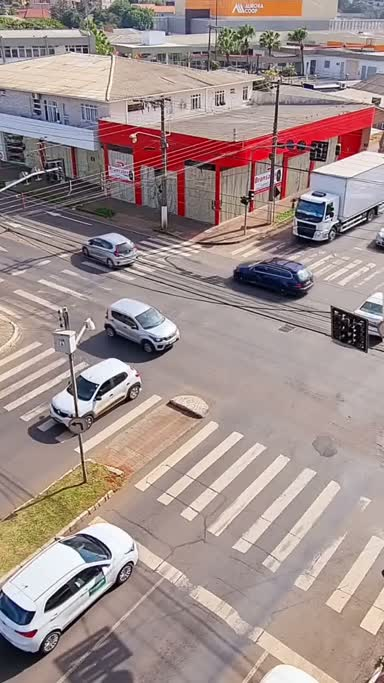car: (0, 520, 137, 663), (41, 354, 147, 429), (101, 290, 186, 360), (228, 247, 314, 310), (72, 226, 140, 272), (350, 279, 384, 346)
truck: (288, 150, 384, 243)
